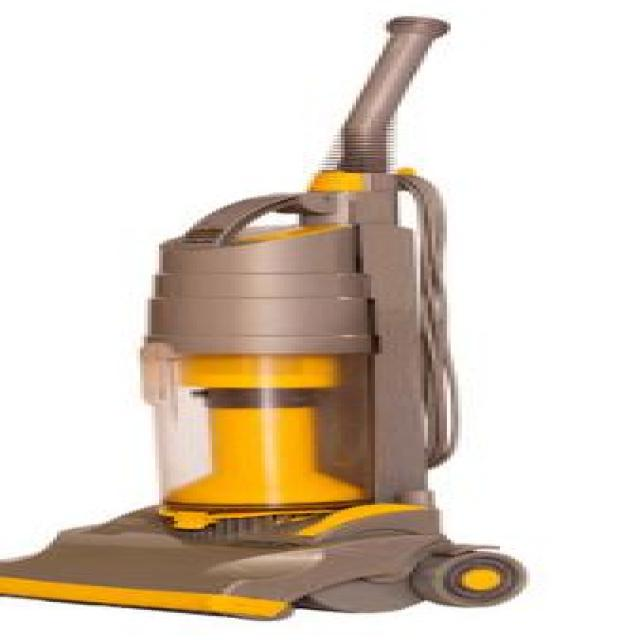electronic: (0, 14, 530, 621)
